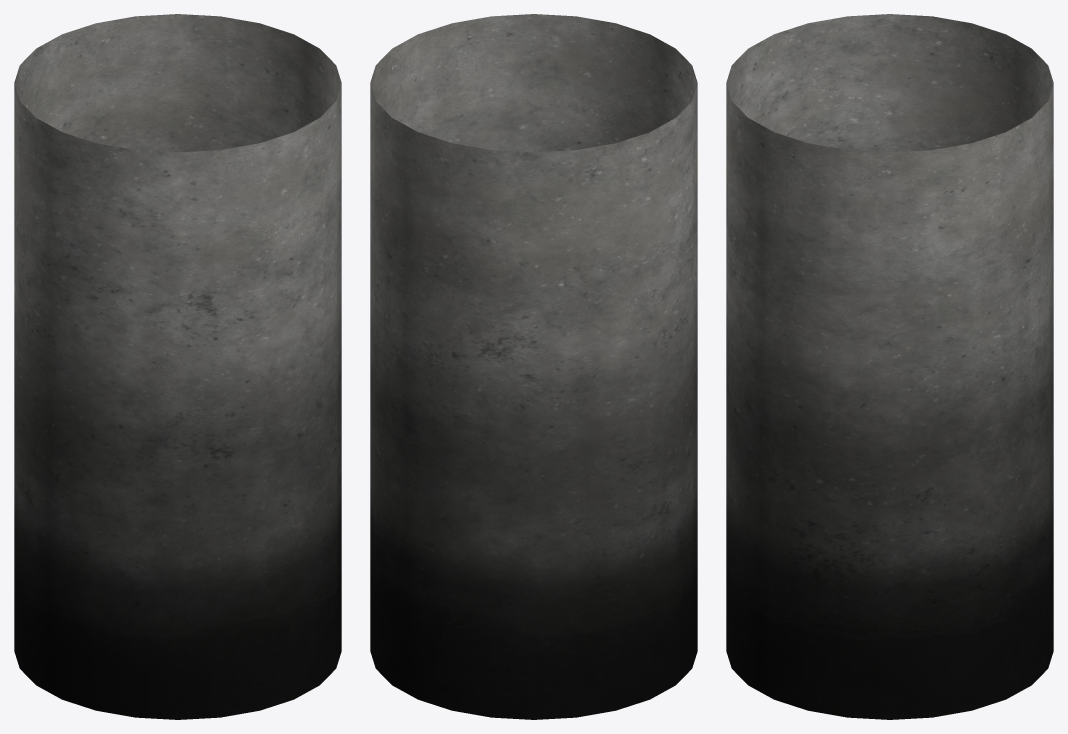
The model's file is ducto.fbx.
3 views of the same model, side by side, from view 1: azimuth 30°, elevation 25°; view 2: azimuth 150°, elevation 25°; view 3: azimuth 270°, elevation 25° (orthographic).
Parts seen in each view (by area): view 1: Cylinder014; view 2: Cylinder014; view 3: Cylinder014.
Part boxes in pixels (bbox=[...]): Cylinder014: bbox=[14, 14, 341, 719]; Cylinder014: bbox=[370, 14, 697, 719]; Cylinder014: bbox=[726, 14, 1053, 719].
Size of the model in its own units: 225 by 430 by 225.
Materials: 1 (1 with a texture image).
